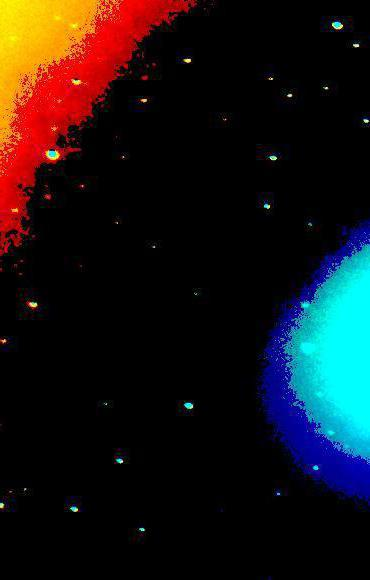star: (34, 251, 64, 281)
